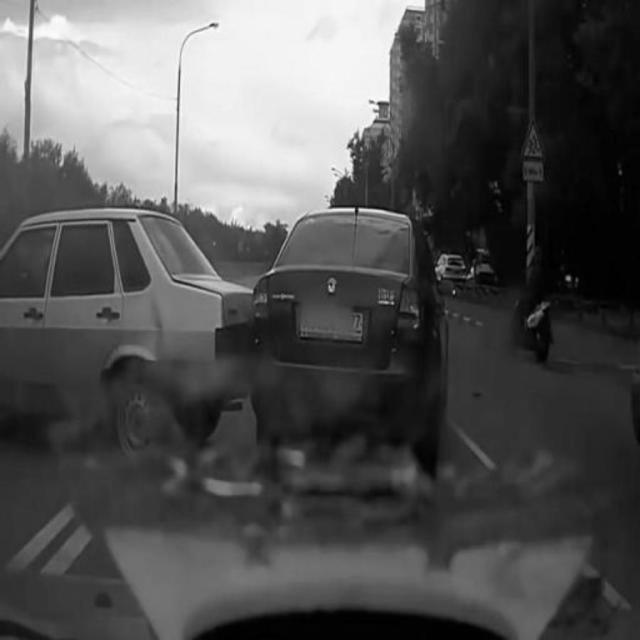accident: (6, 198, 460, 468)
